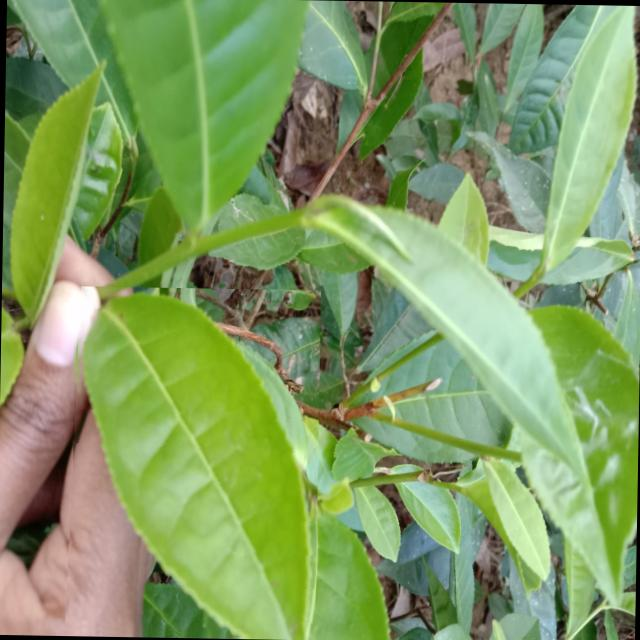Category C 4-7 days: (63, 286, 320, 640)
